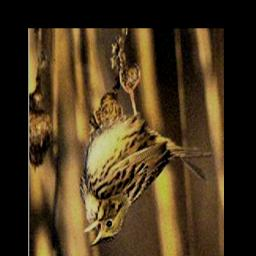Sparrow: (81, 66, 215, 249)
